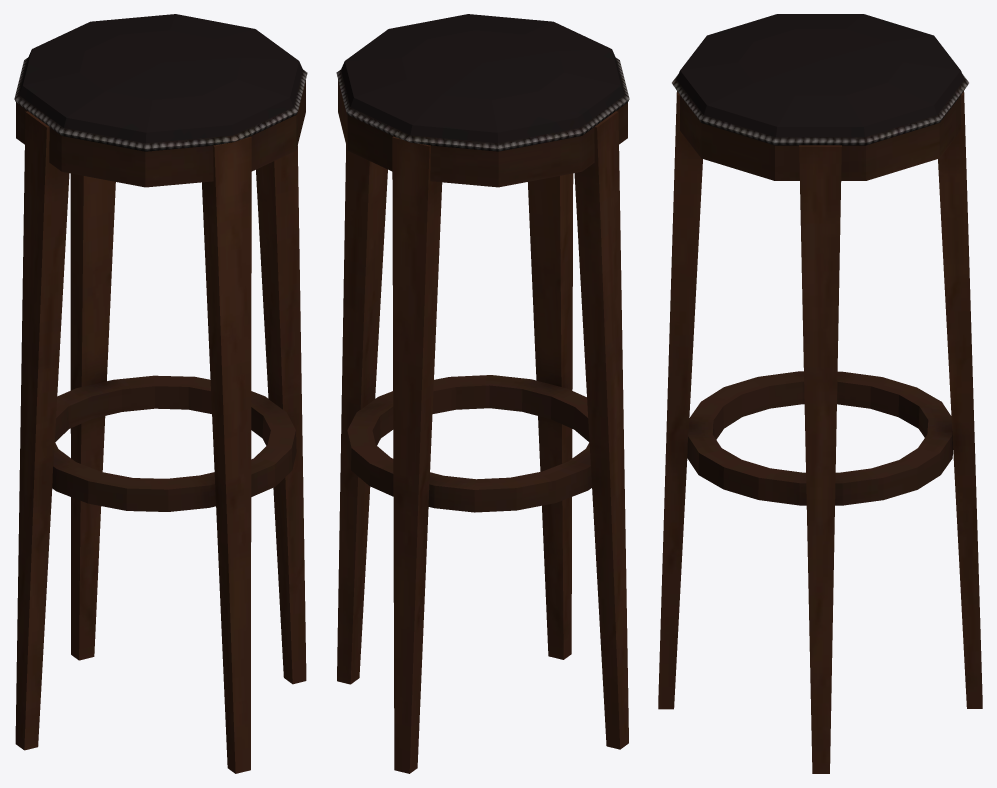
Rendered from 2UeLZTX5nHr.glb.
3 renders of one model, left to right at view 1: azimuth 30°, elevation 25°; view 2: azimuth 150°, elevation 25°; view 3: azimuth 270°, elevation 25°, orthographic.
Visible parts, largest first — view 1: BarSeats_Mesh; view 2: BarSeats_Mesh; view 3: BarSeats_Mesh.
Part boxes in pixels (x1,y1,x2,y2): BarSeats_Mesh: (14, 14, 307, 773); BarSeats_Mesh: (336, 14, 629, 773); BarSeats_Mesh: (658, 14, 982, 773).
Bounding box in the file's own units: 0.4556 × 1 × 0.4556.
Materials: 1 (1 with a texture image).
